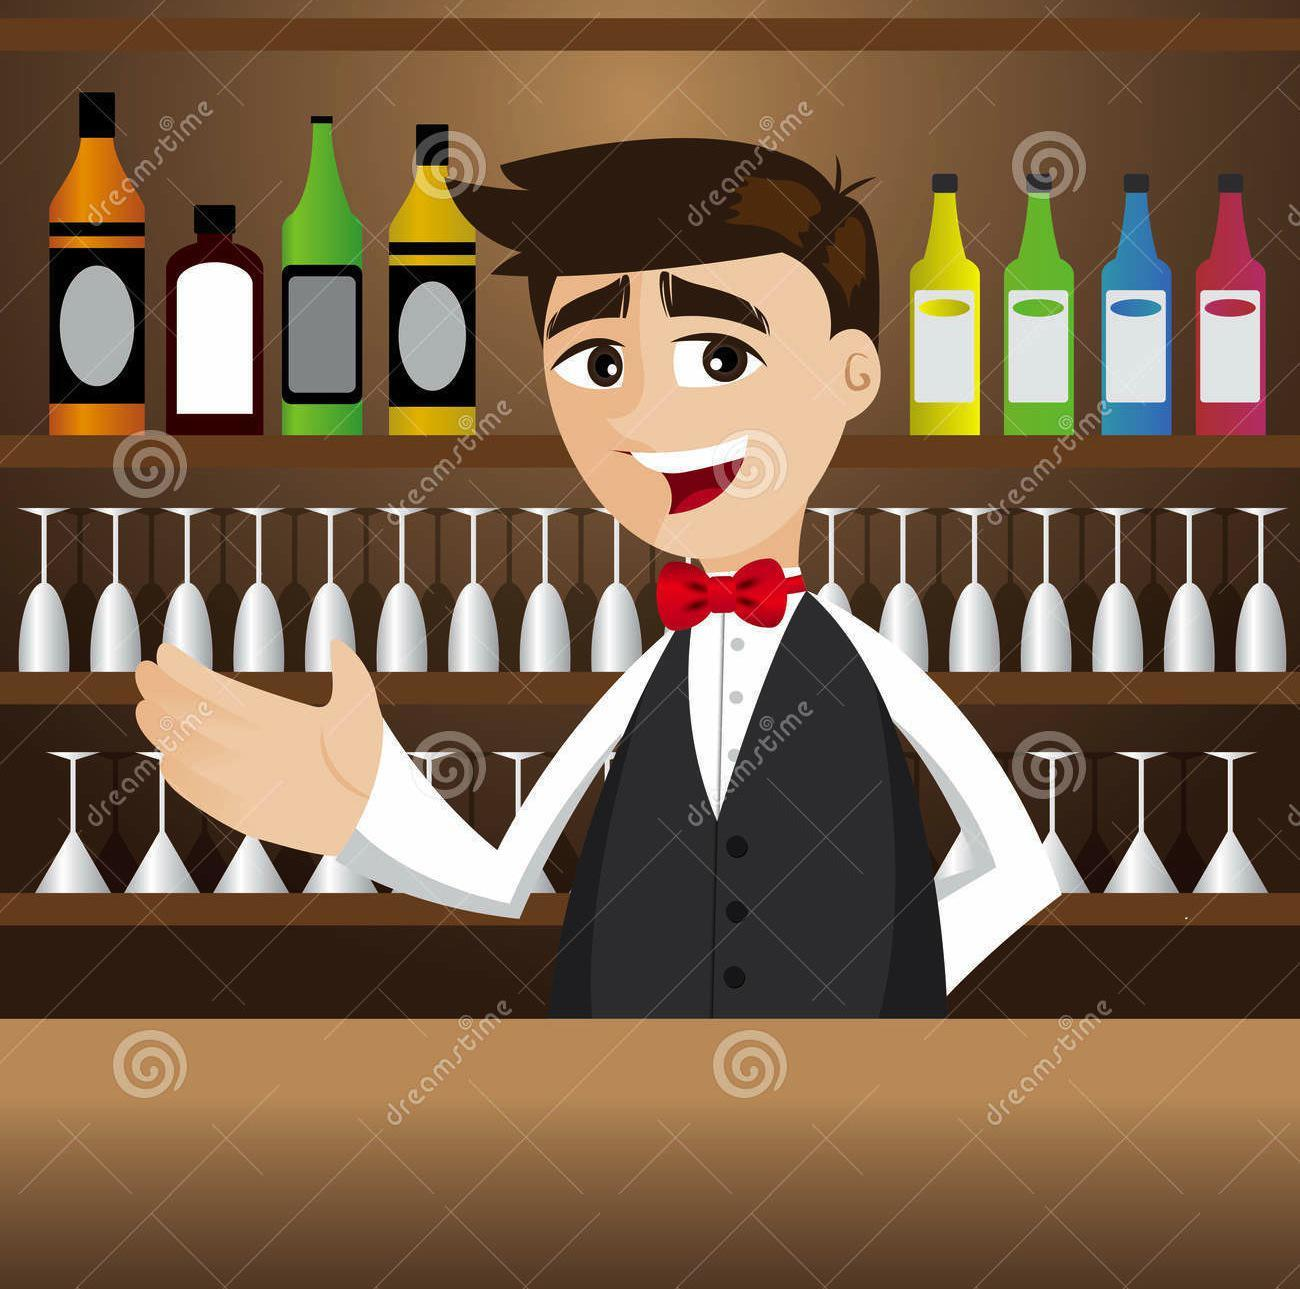bottle: (25, 81, 165, 440), (252, 101, 380, 438), (369, 107, 489, 433), (147, 188, 278, 433), (889, 175, 986, 442), (1086, 172, 1178, 437), (1186, 175, 1276, 431), (999, 166, 1080, 442)
person: (160, 125, 1047, 1022)
